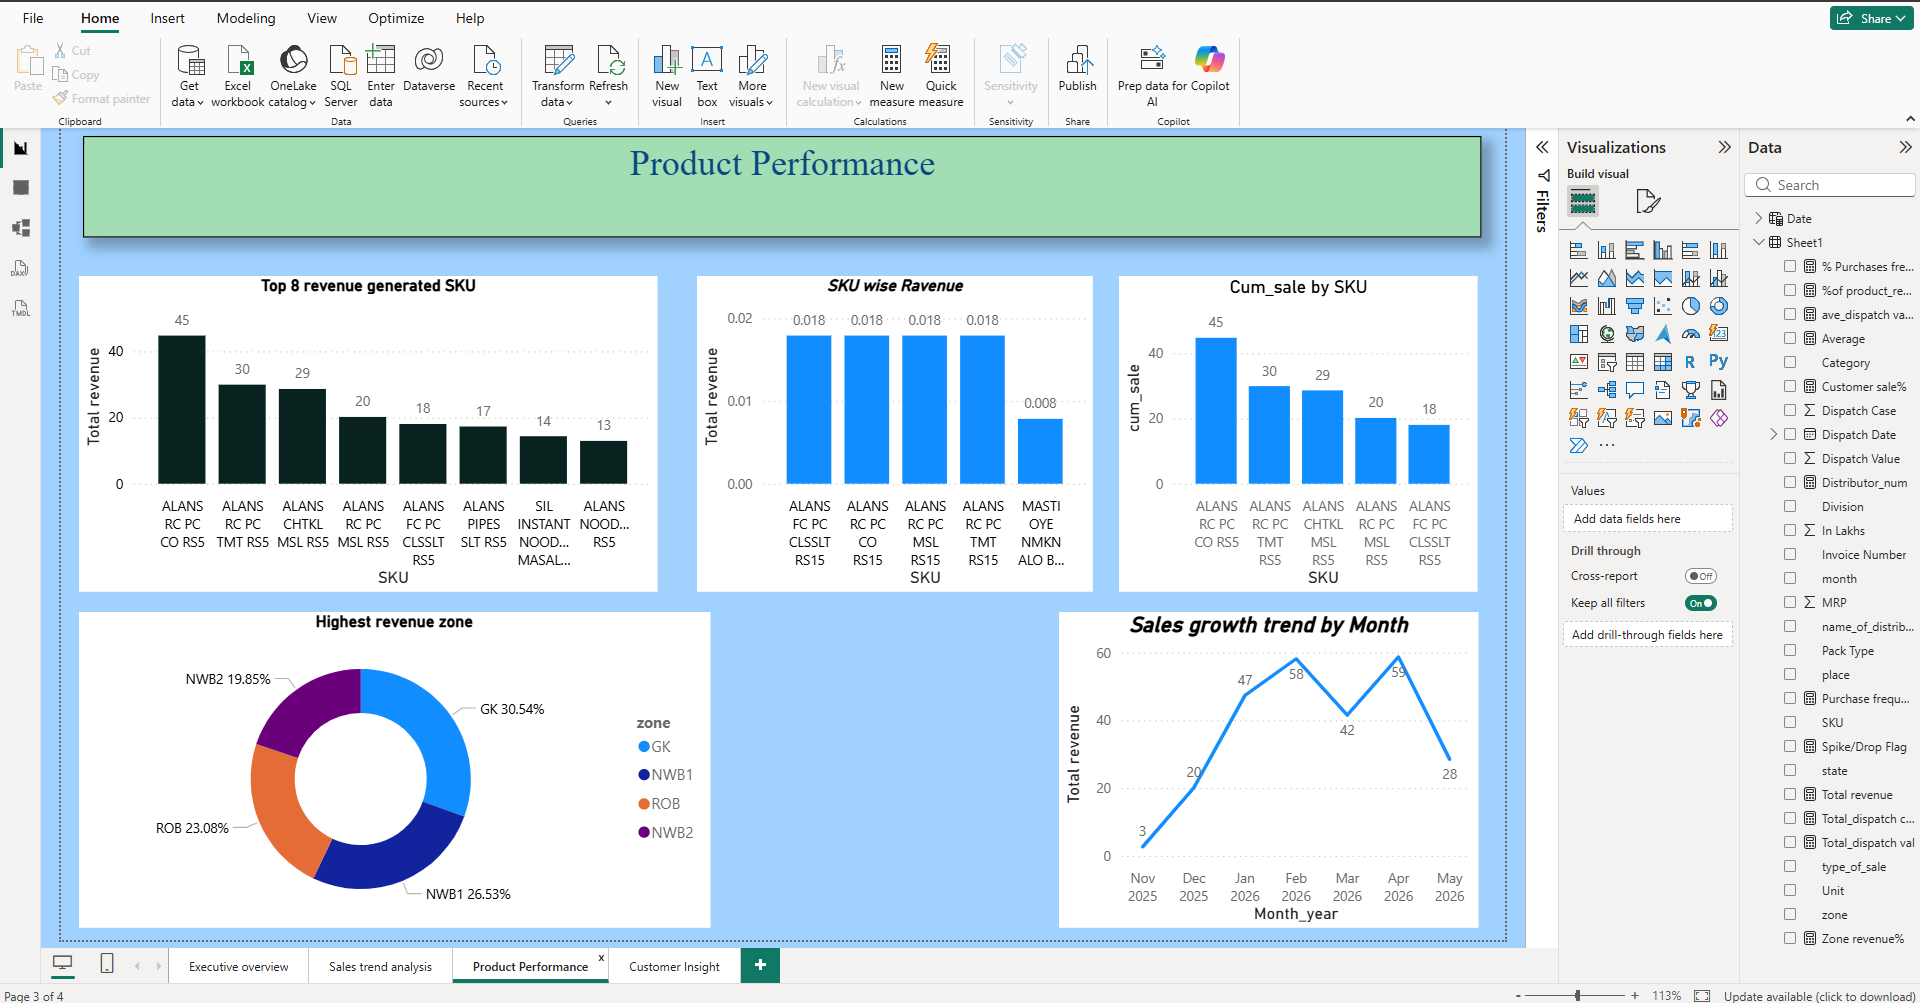

Layout of this report page (visuals, bound fields, positions):
{"tool":"powerbi","page":{"name":"Product Performance","canvas":[1280,720],"ordinal":2},"visuals":[{"type":"clusteredColumnChart","title":"Top 8 revenue generated SKU","fields":{"Category":["Sheet1.SKU"],"Y":["Sheet1.Total revenue"]},"box":[16,131.2,513.4,280.2],"z":0},{"type":"columnChart","title":"SKU wise Ravenue","fields":{"Category":["Sheet1.SKU"],"Y":["Sheet1.Total revenue"]},"box":[563.9,131.2,351.1,280.2],"z":1000},{"type":"donutChart","title":"Highest revenue zone","fields":{"Y":["Sheet1.Total revenue"],"Category":["Sheet1.zone"]},"box":[16,429.2,559.5,280.2],"z":2000},{"type":"lineChart","title":"Sales growth  trend  by Month","fields":{"Category":["Date.Month_year"],"Y":["Sheet1.Total revenue"]},"box":[884.9,429.2,371.5,280.2],"z":3000},{"type":"columnChart","title":"Cum_sale by SKU","fields":{"Category":["Sheet1.SKU"],"Y":["Date.cum_sale"]},"box":[938.1,131.2,318.3,280.2],"z":4000},{"type":"textbox","box":[19.5,7.1,1240.5,89.6],"z":5000}]}

Visuals, with their boxes on the page's 1280x720 design canvas (x1, y1, x2, y2). These are canvas units, not pixel positions in the 1920x1003 screenshot, which may show the page scaled, cropped or inside an application window:
"Top 8 revenue generated SKU" clusteredColumnChart: [left=16, top=131, right=529, bottom=411]
"SKU wise Ravenue" columnChart: [left=564, top=131, right=915, bottom=411]
"Highest revenue zone" donutChart: [left=16, top=429, right=576, bottom=709]
"Sales growth  trend  by Month" lineChart: [left=885, top=429, right=1256, bottom=709]
"Cum_sale by SKU" columnChart: [left=938, top=131, right=1256, bottom=411]
textbox: [left=20, top=7, right=1260, bottom=97]
